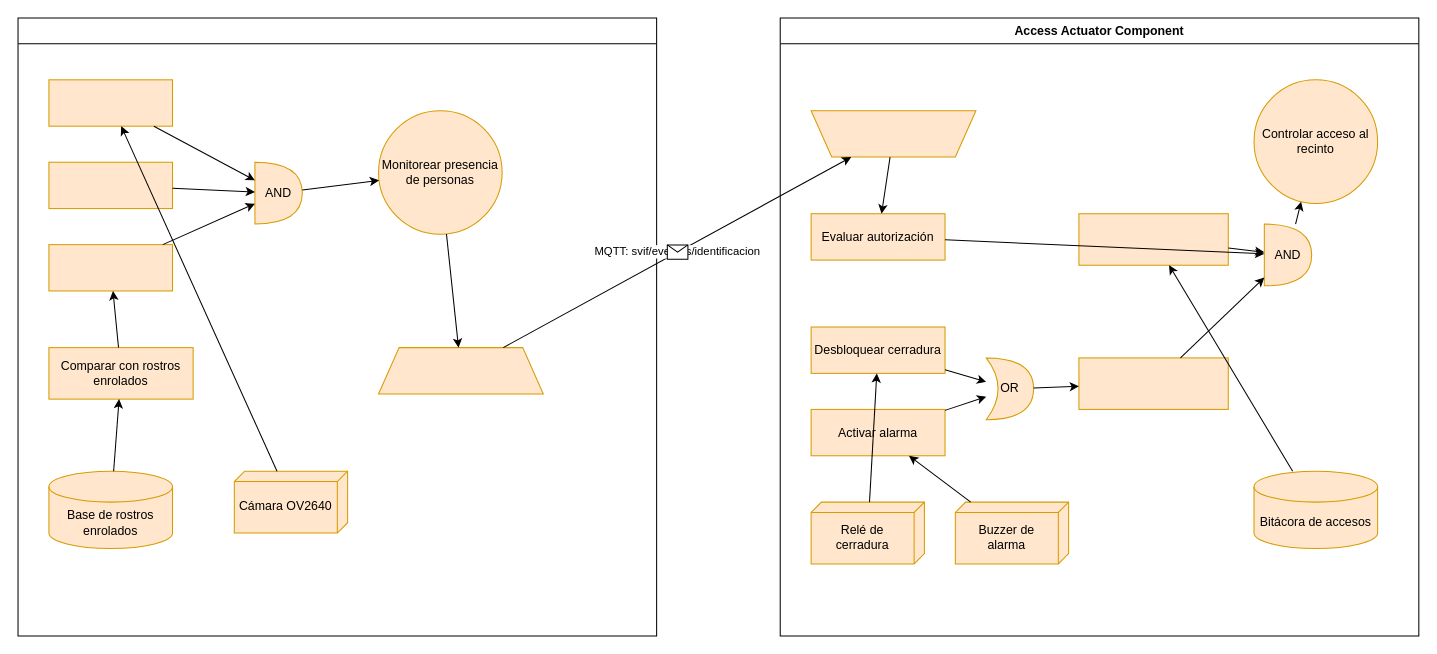
This 1437x654 diagram has some shape labels left out. Here are the shapes that lost their labels. From the top down, the box of each, then its label:
(48, 79, 173, 126): Capturar imagen
(810, 110, 976, 157): Evento de identificación (receiver)
(48, 161, 173, 209): Detectar rostro
(1078, 213, 1228, 265): Registrar evento de acceso
(48, 244, 173, 291): Identificar rostro
(17, 17, 657, 636): Face Monitor Component
(377, 347, 543, 394): Evento de identificación (sender)
(1078, 357, 1228, 409): Gestionar respuesta de acceso
